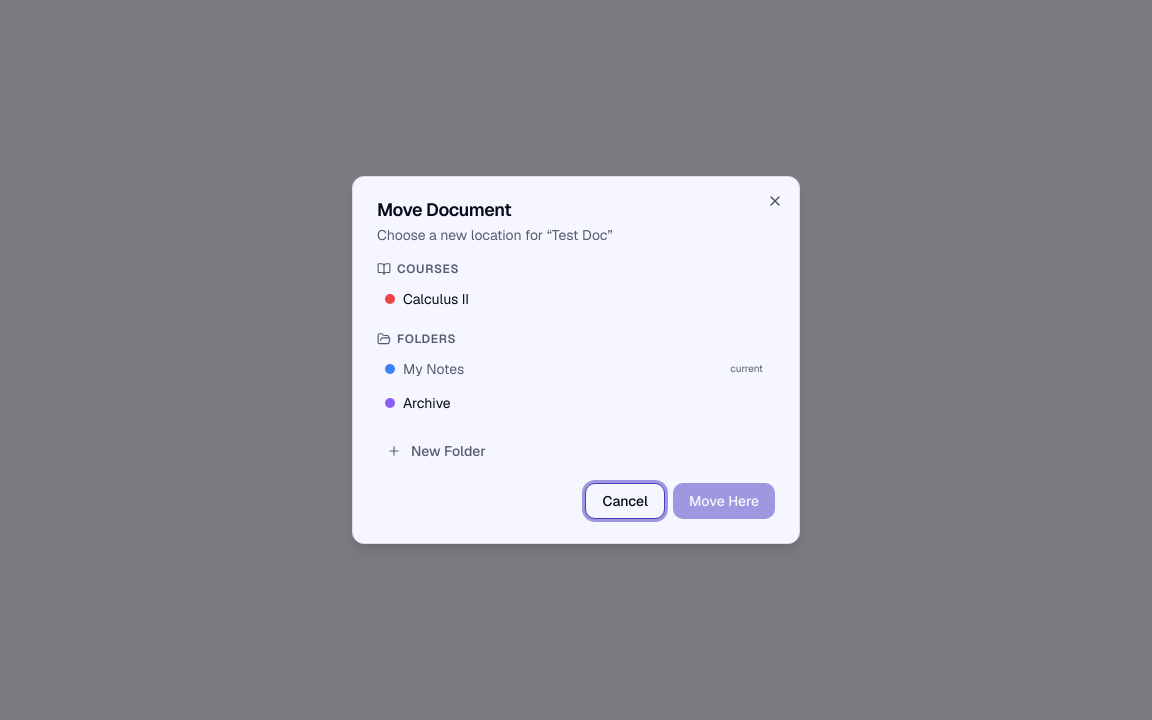
MoveDocumentDialog › selects destination on click
expect the text "Calculus II" is shown: met, box x1=403 y1=290 x2=469 y2=308
Click the button "Calculus II" at (436, 299), box x1=377 y1=283 x2=771 y2=315
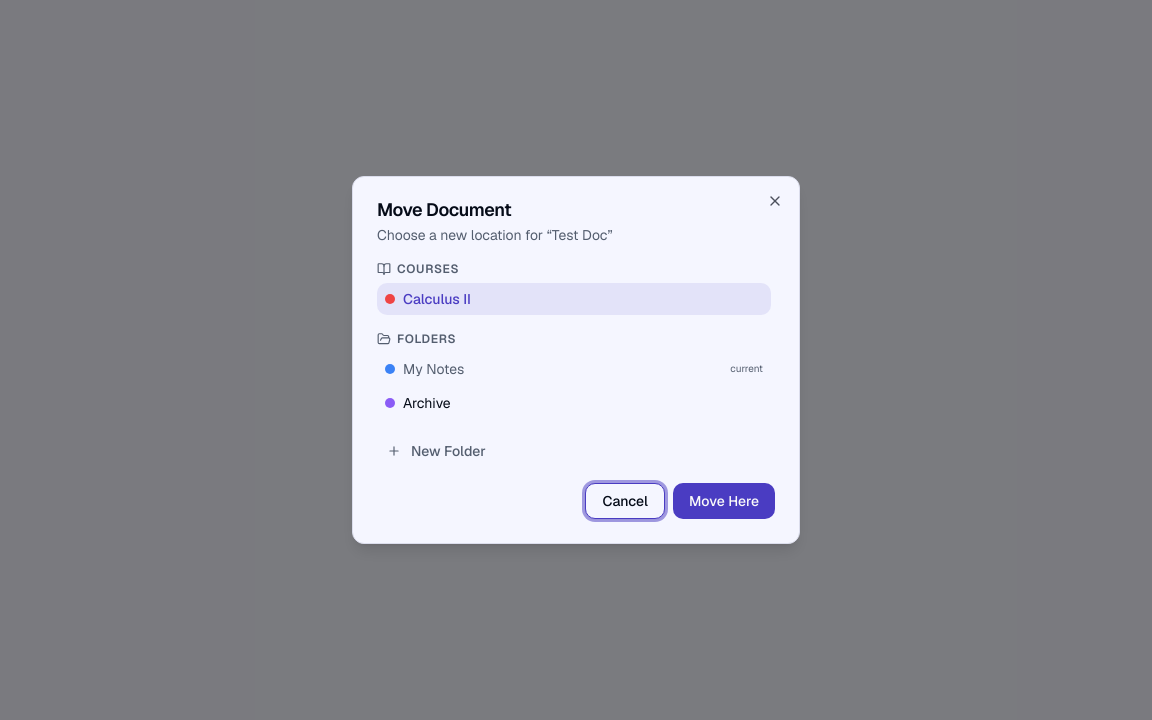
expect the button "Move Here" is enabled: met, box x1=673 y1=483 x2=775 y2=519
